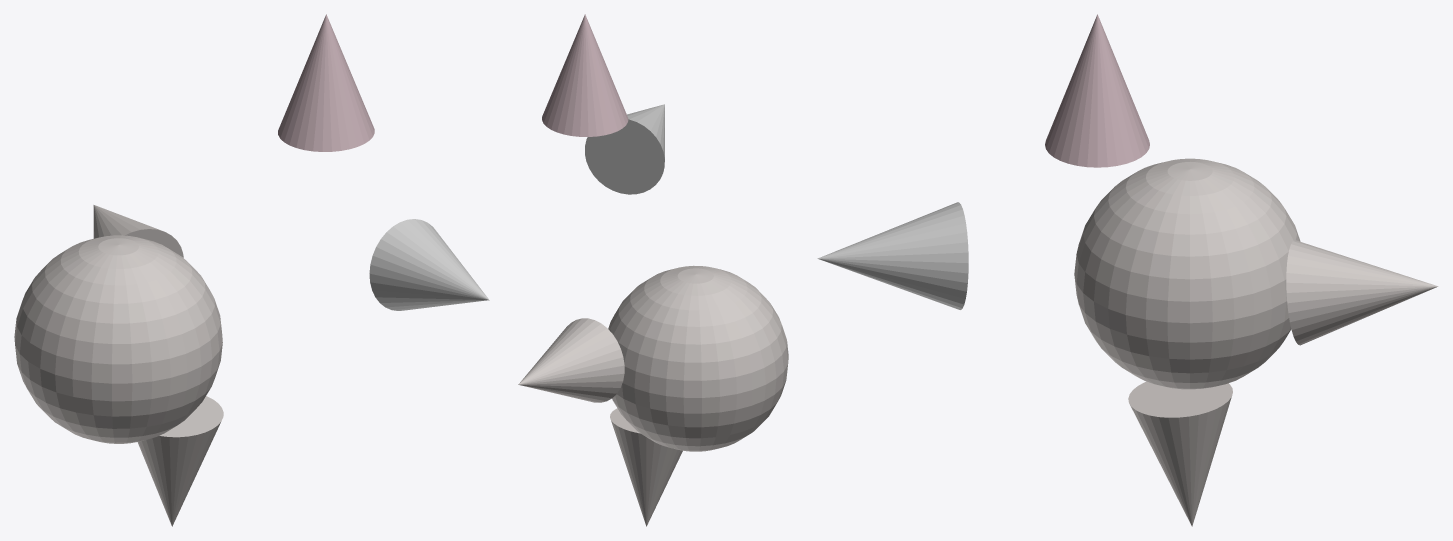
The model's file is sol.obj.
The picture shows the model from 3 angles, left to right: view 1: azimuth 30°, elevation 25°; view 2: azimuth 150°, elevation 25°; view 3: azimuth 270°, elevation 25°; orthographic projection. The views are drawn at different scales.
Visible parts, largest first — view 1: Cone; view 2: Cone; view 3: Cone.
Boxes of the visible parts, x1,y1,x2,y2 form: Cone: (14,14,489,526); Cone: (518,14,788,526); Cone: (817,14,1438,526).
Bounding box in the file's own units: 3.48 × 5.46 × 5.37.
